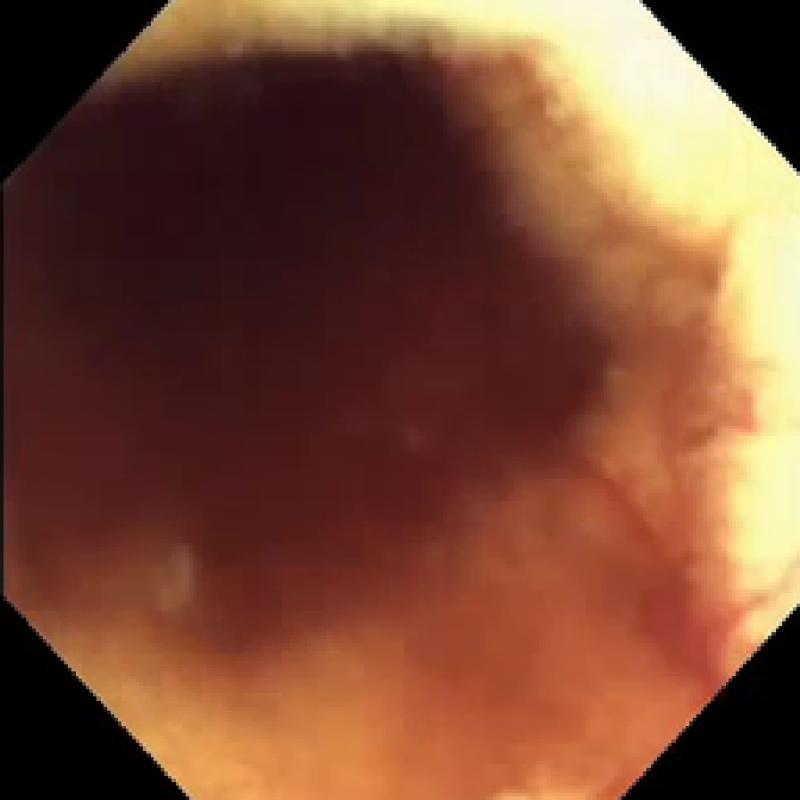bleeding: (18, 46, 743, 672)
